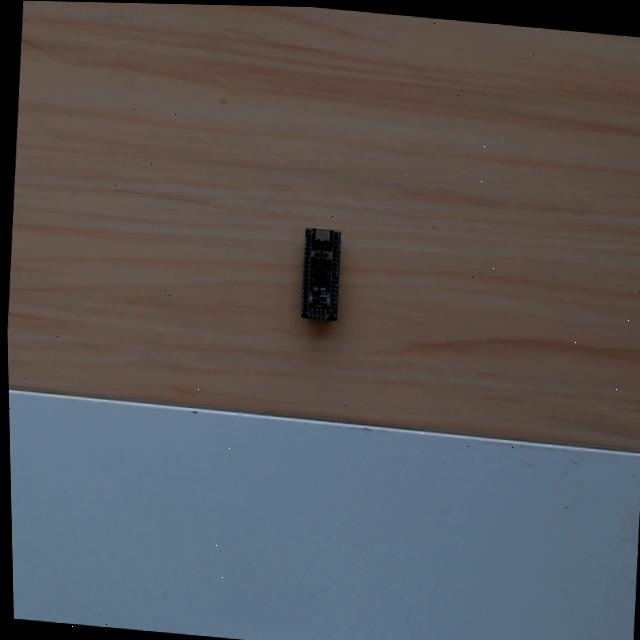STM32-Blackpill: (299, 223, 342, 321)
